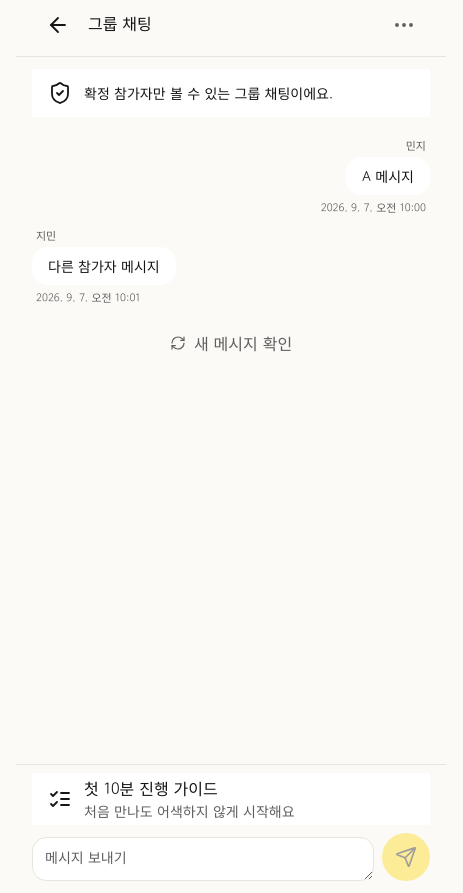
Test: MeetupChatPage API behavior › falls back to the generic send error when a problem has no detail
The width and height of the screenshot is (463, 893).
(page scrolled)
Expected: the text "A 메시지" is shown, x1=346 y1=157 x2=430 y2=195
Type "보내기" into the text box named "메시지 입력".
click(203, 859); type("보내기")  # box x1=32 y1=837 x2=374 y2=881
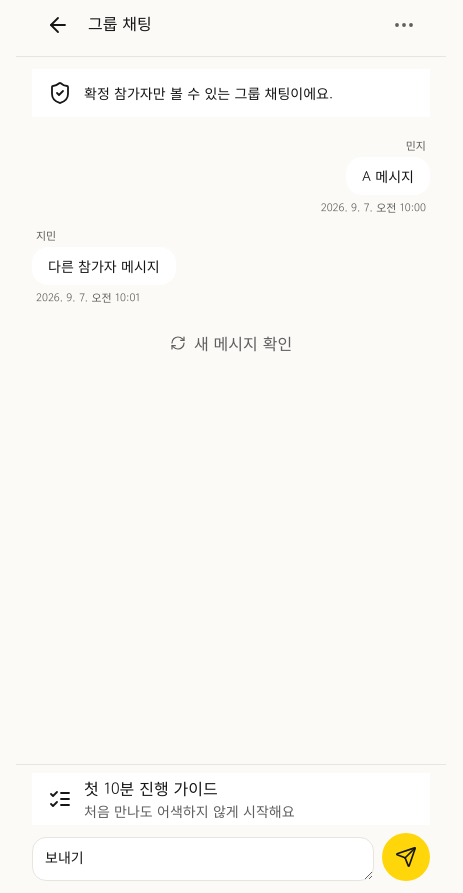
Submit the form named "메시지 보내기", box x1=32 y1=833 x2=430 y2=881
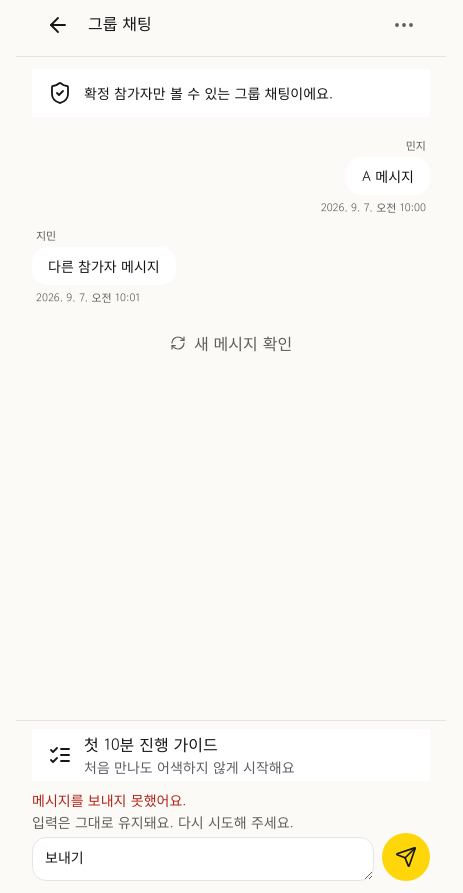
Expected: the text "메시지를 보내지 못했어요." is shown, x1=32 y1=790 x2=186 y2=810
